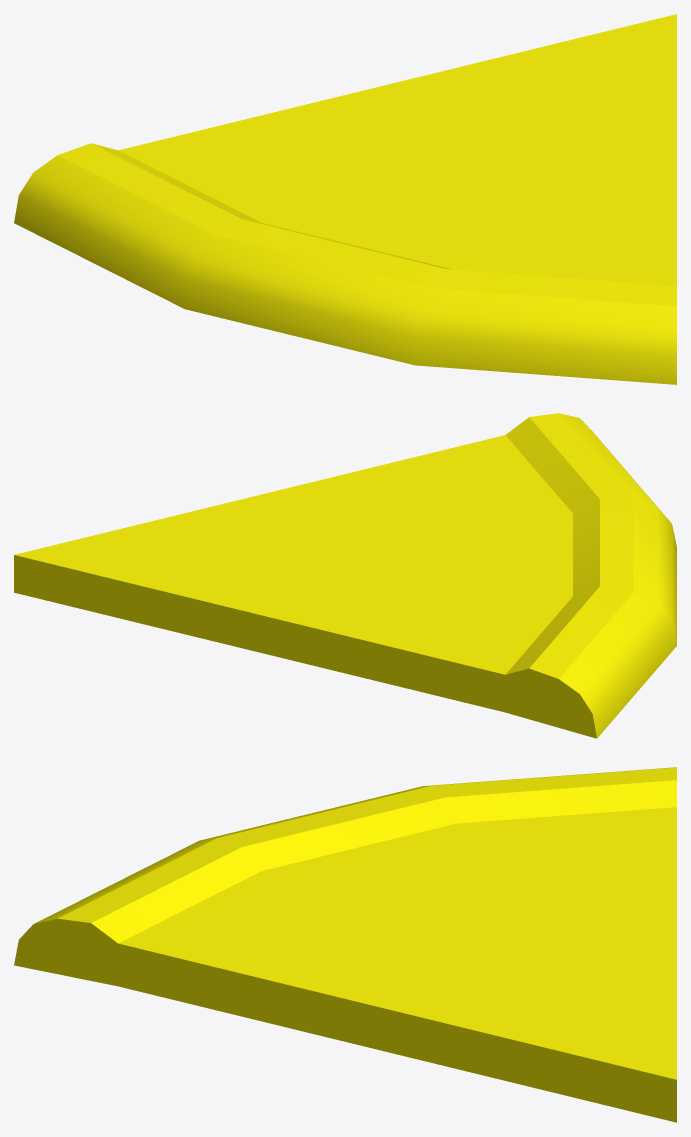
File: umgebung_pizza_stueck_low.FBX
3 views of the same model, one above another, from view 1: azimuth 30°, elevation 25°; view 2: azimuth 150°, elevation 25°; view 3: azimuth 270°, elevation 25° (orthographic). The views are drawn at different scales.
Visible parts, largest first — view 1: o_pizza_stueck_low; view 2: o_pizza_stueck_low; view 3: o_pizza_stueck_low.
Boxes of the visible parts, x1,y1,x2,y2 form: o_pizza_stueck_low: (14, 14, 676, 384); o_pizza_stueck_low: (14, 413, 676, 738); o_pizza_stueck_low: (14, 767, 676, 1122).
Size of the model in its own units: 24.52 by 21.24 by 2.16.
